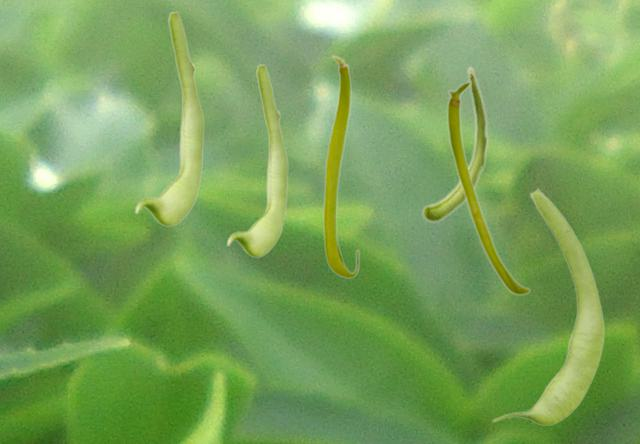french_bean: (491, 187, 604, 424), (446, 80, 530, 295), (134, 10, 203, 225), (226, 63, 287, 256), (421, 65, 488, 222), (322, 54, 359, 278)
